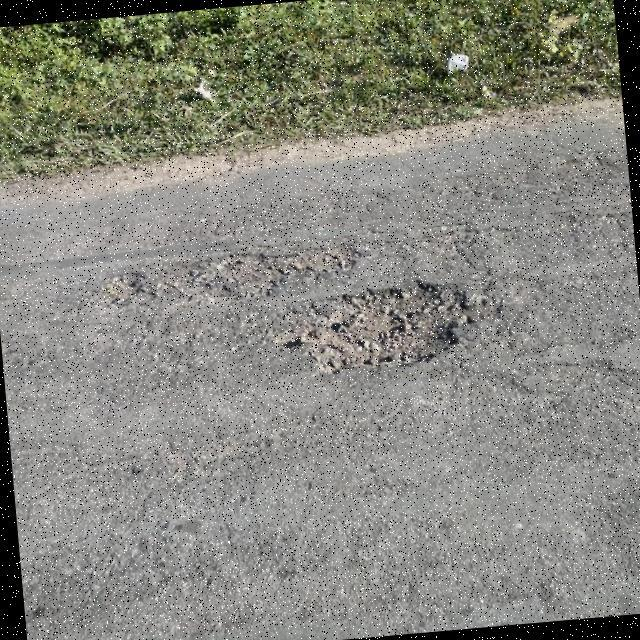Pothole: (270, 279, 485, 374), (81, 244, 361, 316)
